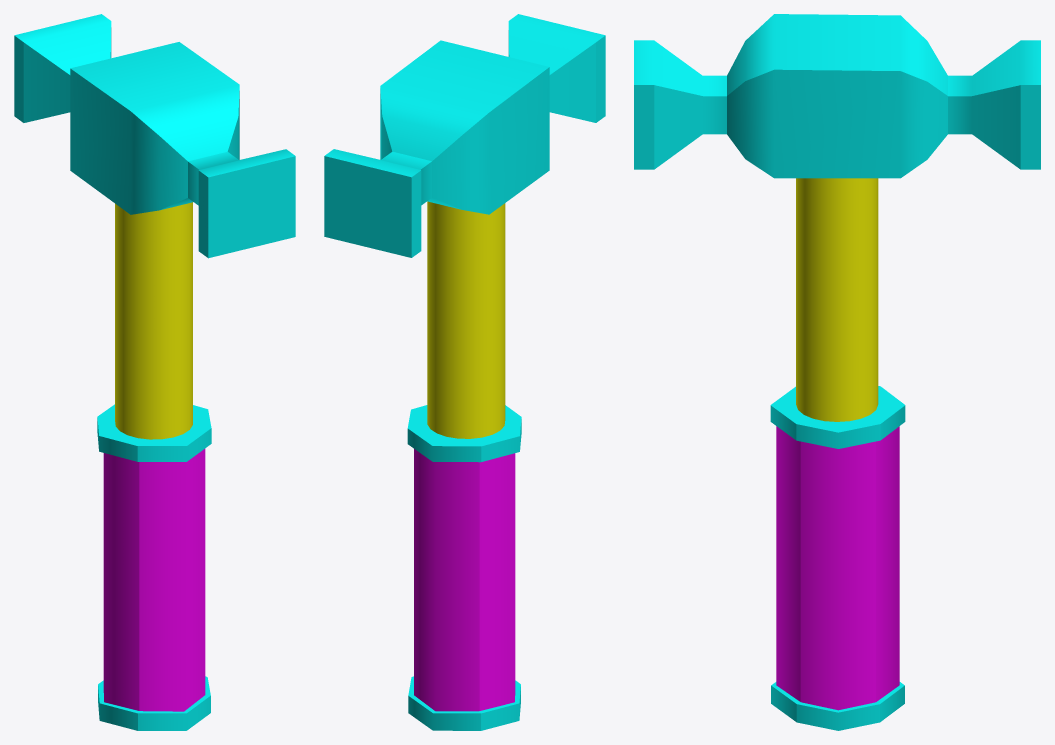
The model's file is Texture_Hammer.obj.
3 views of the same model, side by side, from view 1: azimuth 30°, elevation 25°; view 2: azimuth 150°, elevation 25°; view 3: azimuth 270°, elevation 25° (orthographic). The views are drawn at different scales.
Parts seen in each view (by area): view 1: pCube3; view 2: pCube3; view 3: pCube3.
Boxes of the visible parts, x1,y1,x2,y2 form: pCube3: (14,14,295,730); pCube3: (324,14,605,730); pCube3: (634,14,1040,730).
Bounding box in the file's own units: 3.41 × 18.74 × 10.44.
